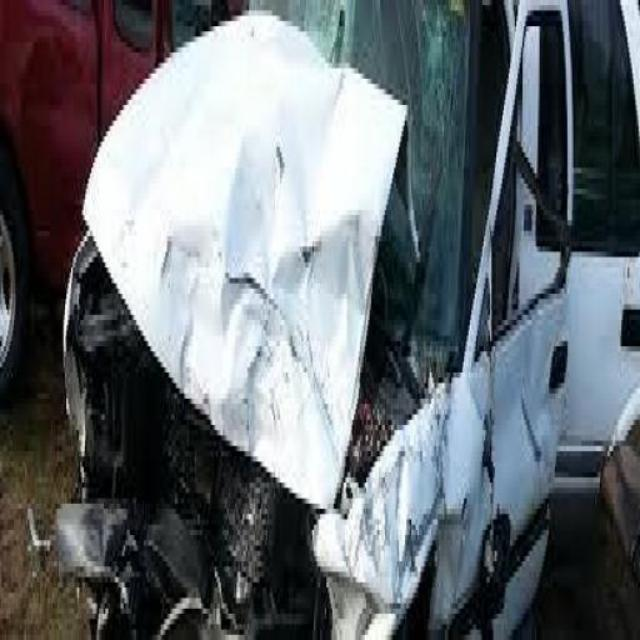no part: (54, 5, 563, 638)
